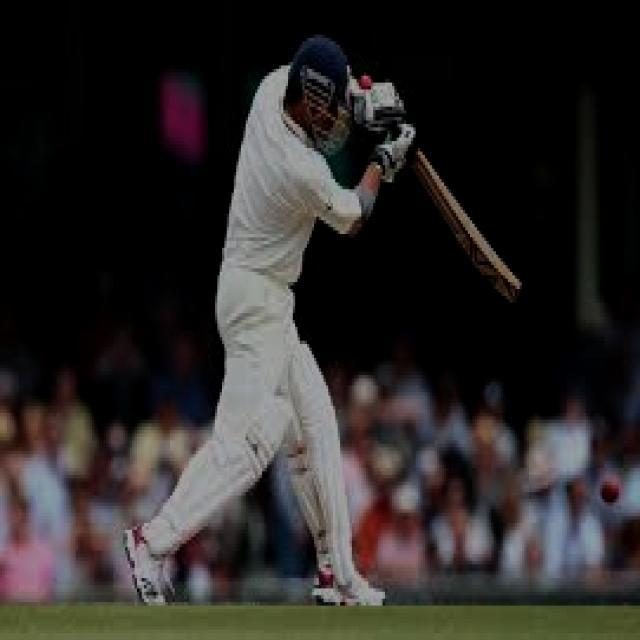bat: (410, 135, 544, 319)
toe: (508, 283, 528, 308)
